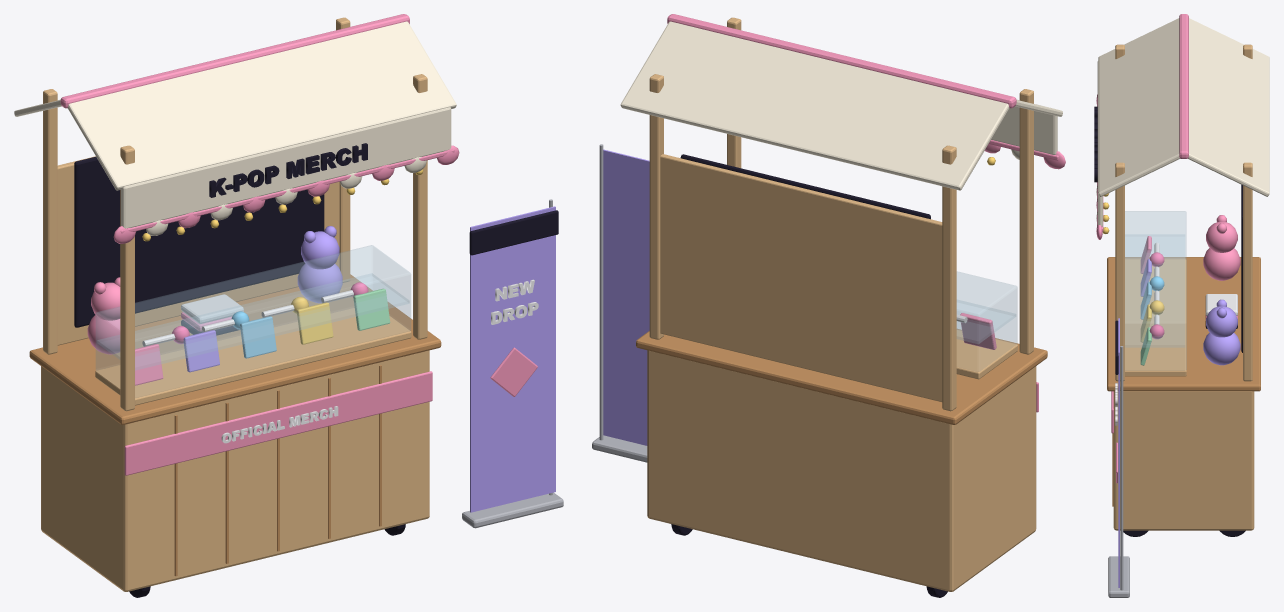
The model's file is StreetMachine_Merch.fbx.
3 renders of one model, left to right at view 1: azimuth 30°, elevation 25°; view 2: azimuth 150°, elevation 25°; view 3: azimuth 270°, elevation 25°, orthographic. The views are drawn at different scales.
Visible parts, largest first — view 1: Body, Glass, Neon_Yellow; view 2: Body, Glass; view 3: Body, Glass, Neon_Pink, Neon_Yellow.
Part boxes in pixels (box(x1,y1,x2,y2)): Body: box(14, 14, 563, 597); Glass: box(96, 245, 410, 397); Neon_Yellow: box(142, 169, 423, 314); Body: box(592, 14, 1065, 597); Glass: box(956, 271, 1017, 371); Body: box(1094, 14, 1269, 597); Glass: box(1125, 211, 1186, 370); Neon_Pink: box(1149, 252, 1164, 339); Neon_Yellow: box(1102, 193, 1164, 314).
Size of the model in its own units: 8.05 by 8.2 by 3.24.
5 materials, 1 textured.
